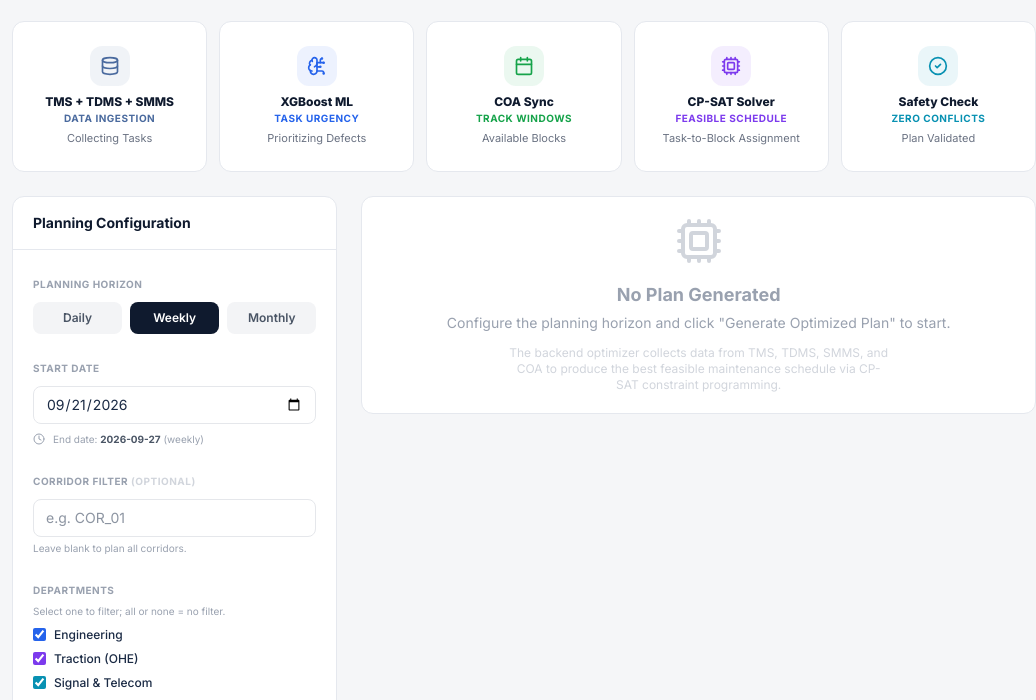
Test case: PlannerPage — Generate Plan Integration › shows error banner on network failure
Type "2026-08-29" into the date field labelled "Start Date".
click(175, 404); type("2026-08-29")  # box [33, 386, 316, 424]
(page scrolled)
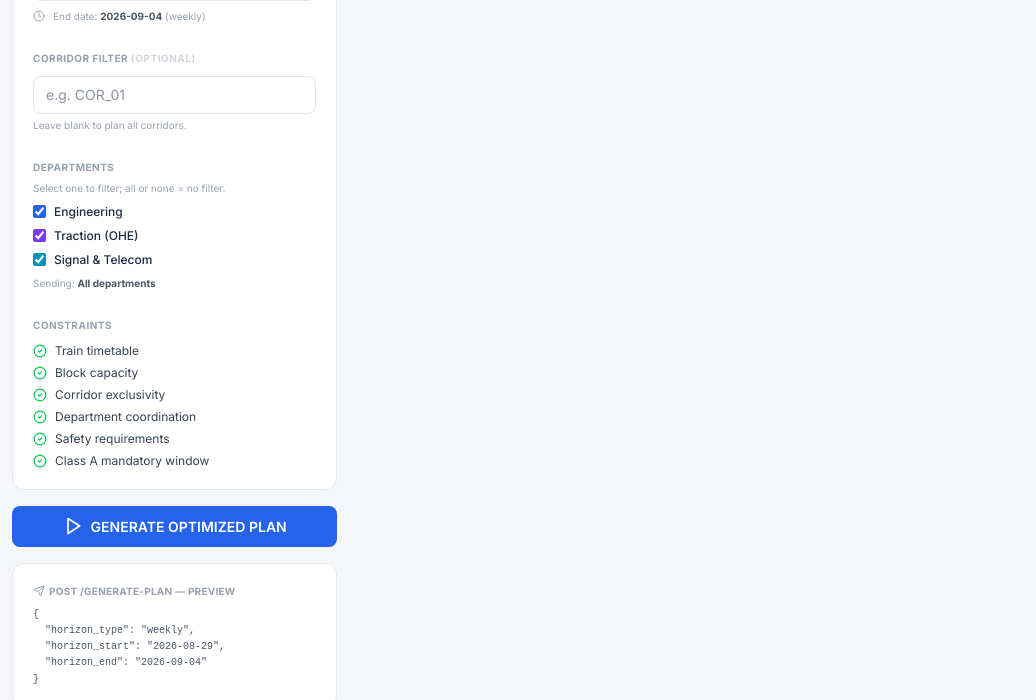
Click the button "GENERATE OPTIMIZED PLAN".
click(175, 526)  # box [12, 506, 337, 546]
(page scrolled)
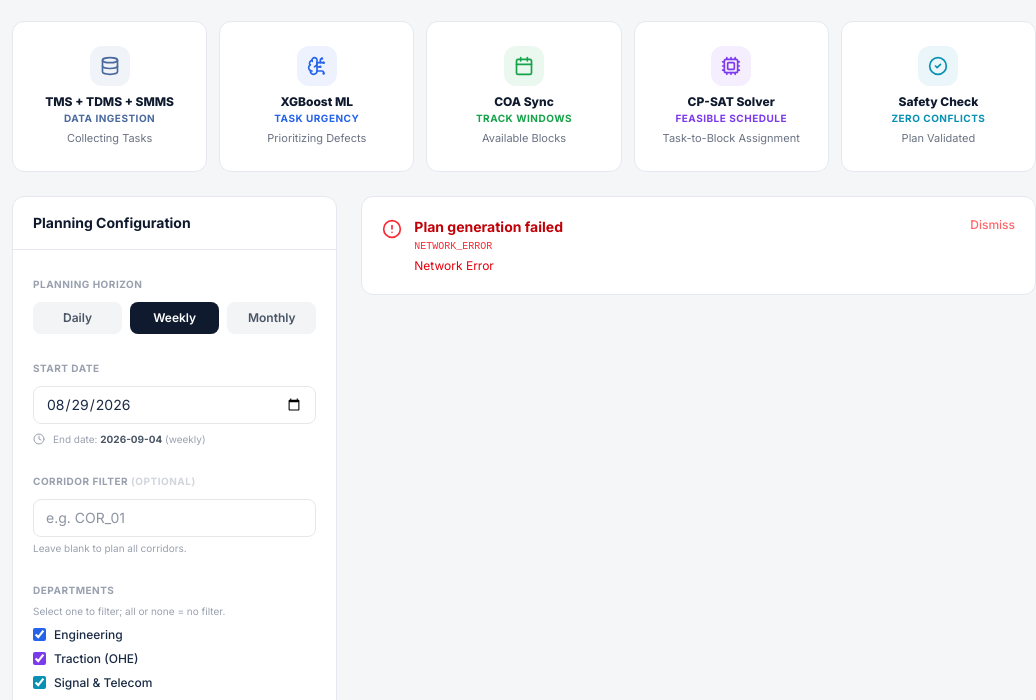
Check: the text "Plan generation failed" is shown, box [414, 218, 563, 234]
